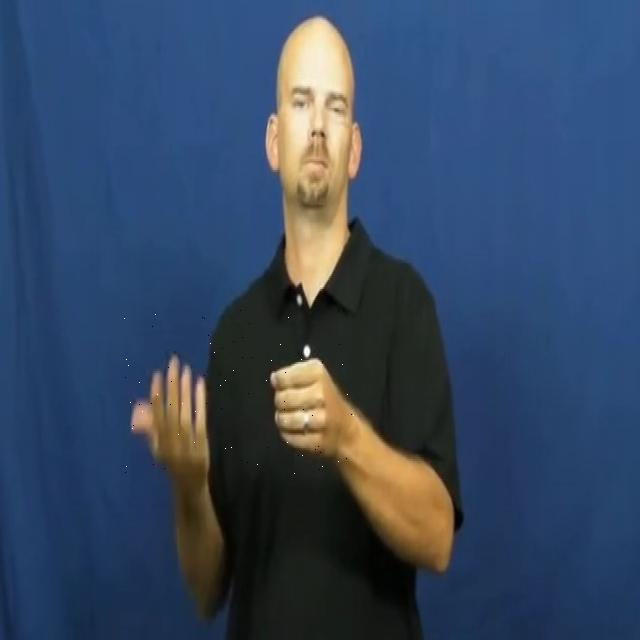soda: (124, 310, 354, 474)
